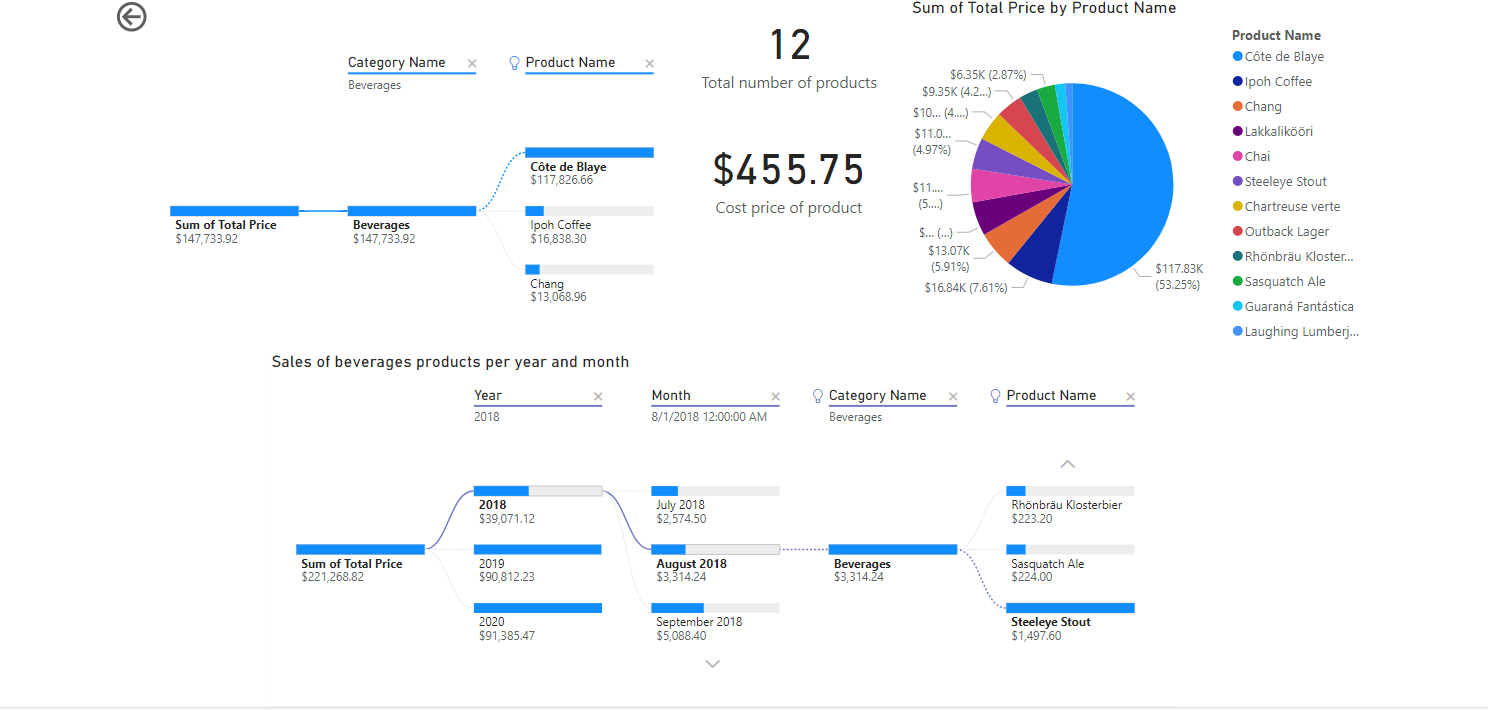

The page's visual inventory and layout, read from the dashboard file:
{"tool":"powerbi","page":{"name":"alyssa_drillthrough","canvas":[1280,720],"ordinal":1},"visuals":[{"type":"actionButton","box":[0,0,100,40],"z":0},{"type":"decompositionTreeVisual","title":"Sales of beverages products per year and month","fields":{"Analyze":["Order Details.Total Sales"],"ExplainBy":["Master Date.Year","Master Date.Month","Categories.Category Name","Products.Product Name"]},"box":[156.6,360.3,921.2,360.3],"z":1000},{"type":"card","fields":{"Values":["CountNonNull(Products.Product Name)"]},"box":[583.9,0,204.2,106.6],"z":2000},{"type":"pieChart","fields":{"Category":["Products.Product Name"],"Y":["Sum(Order Details.Total Price)"]},"box":[805.7,0,474.3,360.3],"z":3000},{"type":"card","fields":{"Values":["Sum(Products.Unit Price)"]},"box":[583.8,114,203.7,132.3],"z":4000},{"type":"decompositionTreeVisual","fields":{"Analyze":["Sum(Order Details.Total Price)"],"ExplainBy":["Categories.Category Name","Products.Product Name"]},"box":[29.1,40.4,555,309],"z":5000},{"type":"decompositionTreeVisual","title":"Sales of beverages products per year and month","fields":{"ExplainBy":["Master Date.Year","Master Date.Month","Categories.Category Name","Products.Product Name"],"Analyze":["Sum(Order Details.Total Price)"]},"box":[156.6,359.7,921.2,360.3],"z":6000}]}

Visuals, with their boxes on the page's 1280x720 design canvas (x1, y1, x2, y2). These are canvas units, not pixel positions in the 1488x710 screenshot, which may show the page scaled, cropped or inside an application window:
actionButton: crop(0, 0, 100, 40)
"Sales of beverages products per year and month" decompositionTreeVisual: crop(157, 360, 1078, 721)
card - CountNonNull(Products.Product Name): crop(584, 0, 788, 107)
pieChart - Products.Product Name x Sum(Order Details.Total Price): crop(806, 0, 1280, 360)
card - Sum(Products.Unit Price): crop(584, 114, 788, 246)
decompositionTreeVisual - Sum(Order Details.Total Price) x Categories.Category Name: crop(29, 40, 584, 349)
"Sales of beverages products per year and month" decompositionTreeVisual: crop(157, 360, 1078, 720)
